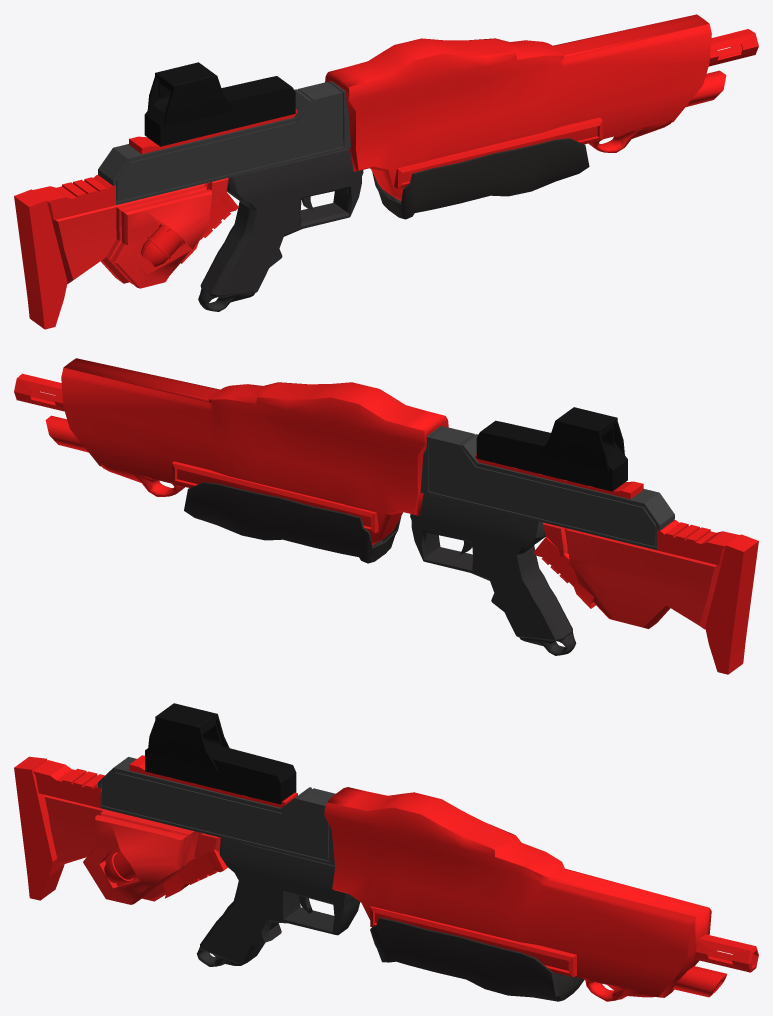
File: Gun 2 Low.fbx
3 renders of one model, top to bottom at view 1: azimuth 30°, elevation 25°; view 2: azimuth 150°, elevation 25°; view 3: azimuth 330°, elevation 25°, orthographic.
Parts seen in each view (by area): view 1: Body_low, Backbody_low, Handle_low, Stock_low, Holescope_low, Under_Handle_low; view 2: Body_low, Backbody_low, Handle_low, Stock_low, Holescope_low, Under_Handle_low; view 3: Body_low, Backbody_low, Handle_low, Stock_low, Holescope_low, Under_Handle_low.
Part boxes in pixels (left/top/right/bottom): Body_low: left=14, top=14, right=758, bottom=329; Backbody_low: left=98, top=81, right=350, bottom=204; Handle_low: left=198, top=148, right=363, bottom=311; Stock_low: left=51, top=178, right=228, bottom=288; Holescope_low: left=144, top=62, right=295, bottom=146; Under_Handle_low: left=372, top=138, right=589, bottom=219; Body_low: left=14, top=358, right=758, bottom=674; Backbody_low: left=420, top=425, right=674, bottom=550; Handle_low: left=410, top=493, right=576, bottom=655; Stock_low: left=543, top=522, right=721, bottom=629; Holescope_low: left=476, top=407, right=627, bottom=491; Under_Handle_low: left=184, top=482, right=401, bottom=563; Body_low: left=14, top=755, right=758, bottom=1001; Backbody_low: left=98, top=757, right=335, bottom=865; Handle_low: left=196, top=838, right=360, bottom=966; Stock_low: left=44, top=795, right=220, bottom=904; Holescope_low: left=145, top=703, right=296, bottom=804; Under_Handle_low: left=370, top=917, right=584, bottom=1001.
Size of the model in its own units: 446 by 142 by 45.7.
